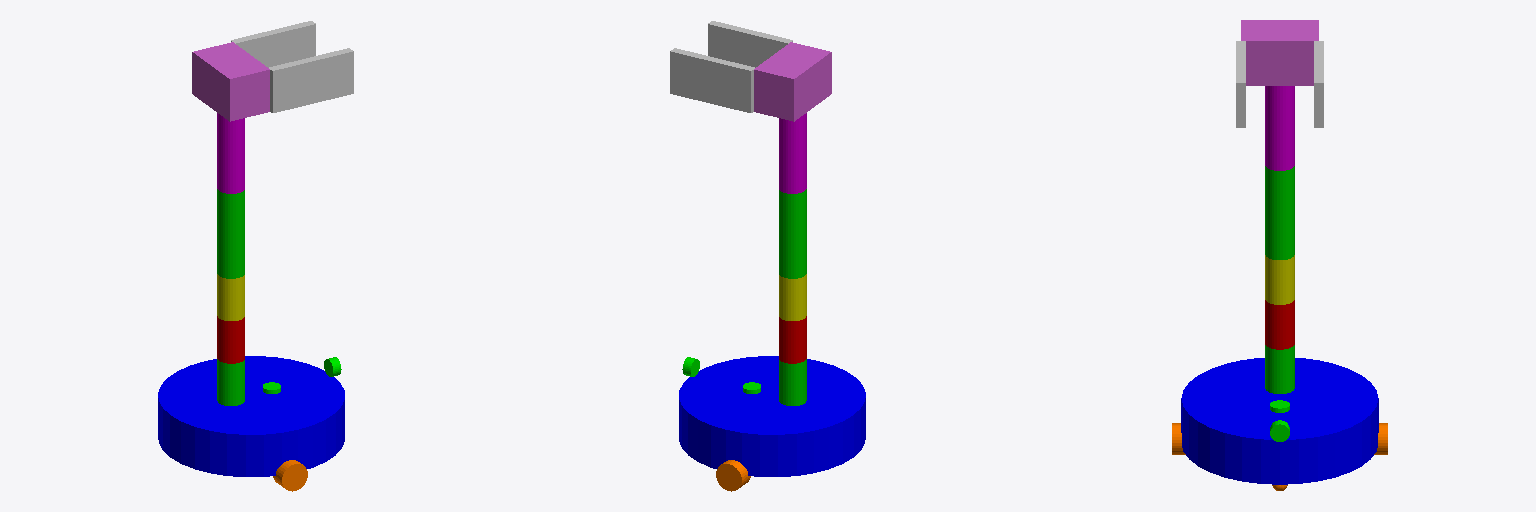
--- What the picture shows (computed from the rendered views, not written in the file) ---
The picture shows the robot from 3 angles, left to right: view 1: azimuth 30°, elevation 25°; view 2: azimuth 150°, elevation 25°; view 3: azimuth 270°, elevation 25°; orthographic projection.
Model six_arm with 16 links and 15 joints (10 continuous, 5 fixed), rooted at base_footprint, posed every joint at zero.
Links seen in each view (by area): view 1: base_link, link6, link8, link7, link4, link5, link2, link1, link3, right_wheel_link; view 2: base_link, link6, link7, link8, link4, link5, link2, link1, link3, left_wheel_link; view 3: base_link, link6, link4, link5, link2, link3, link1, link7, link8.
Link boxes in pixels (<box>): base_link: <box>158,356,344,476</box>; link6: <box>192,42,269,121</box>; link8: <box>269,48,353,112</box>; link7: <box>231,21,315,67</box>; link4: <box>217,189,244,278</box>; link5: <box>217,113,244,193</box>; link2: <box>217,316,244,363</box>; link1: <box>217,359,244,405</box>; link3: <box>217,274,244,320</box>; right_wheel_link: <box>273,460,307,491</box>; base_link: <box>679,356,865,476</box>; link6: <box>754,42,831,121</box>; link7: <box>670,48,754,112</box>; link8: <box>708,21,792,67</box>; link4: <box>779,189,806,278</box>; link5: <box>779,113,806,193</box>; link2: <box>779,316,806,363</box>; link1: <box>779,359,806,405</box>; link3: <box>779,274,806,320</box>; left_wheel_link: <box>716,460,750,491</box>; base_link: <box>1181,358,1378,484</box>; link6: <box>1241,20,1318,85</box>; link4: <box>1265,166,1294,259</box>; link5: <box>1265,86,1294,170</box>; link2: <box>1265,300,1294,349</box>; link3: <box>1265,255,1294,304</box>; link1: <box>1265,345,1294,393</box>; link7: <box>1314,41,1323,127</box>; link8: <box>1236,41,1245,127</box>.
Bounding box of the posed robot: 0.41 × 0.44 × 0.932 m (x, y, z).
Geometry: primitives only (box / cylinder / sphere), no mesh files.

The robot description file, URDF, robot "six_arm":
<?xml version="1.0"?>
<robot name="six_arm">

    <link name="base_footprint"/>
    <!-- Base link -->
    <link name="base_link">
        <visual>
            <geometry>
                <cylinder length="0.1" radius="0.2"/>
            </geometry>
            <origin rpy="0 0 0" xyz="0 0 0.05"/>
            <material name="blue">
                <color rgba="0 0 1.0 0.75"/>
            </material>
        </visual>
        <collision>
            <geometry>
                <cylinder length="0.1" radius="0.2"/>
            </geometry>
            <origin rpy="0 0 0" xyz="0 0 0.05"/>
        </collision>
        <inertial>
            <mass value="0.2"/>
            <inertia ixx="0.0122666" ixy="0" ixz="0" iyy="0.0122666" iyz="0" izz="0.02"/>
        </inertial>
    </link>

    <joint name="base_joint" type="fixed">
        <parent link="base_footprint"/>
        <child link="base_link"/>
        <origin xyz="0.0 0.0 0.0" rpy="0 0 0"/>
    </joint>

    <!-- IMU -->
    <link name="imu_link">
        <visual>
            <origin xyz="0 0 0.0" rpy="0 0 0"/>
            <geometry>
                <box size="0.02 0.02 0.02"/>
            </geometry>
        </visual>
        <collision>
            <origin xyz="0 0 0.0" rpy="0 0 0"/>
            <geometry>
                <box size="0.02 0.02 0.02"/>
            </geometry>
        </collision>
        <inertial>
            <mass value="0.1"/>
            <inertia ixx="0.000190416666667" ixy="0" ixz="0" iyy="0.0001904" iyz="0" izz="0.00036"/>
        </inertial>
    </link>
    <joint name="imu_joint" type="fixed">
        <parent link="base_link" />
        <child link="imu_link" />
        <origin xyz="0 0 0.02" />
    </joint>

    <!-- 雷达 -->
    <link name="laser_link">
        <visual>
            <origin xyz="0 0 0" rpy="0 0 0"/>
            <geometry>
                <cylinder length="0.02" radius="0.02"/>
            </geometry>
            <material name="black">
                <color rgba="0.0 0.9 0.0 0.5" />
            </material>
        </visual>
        <collision>
            <origin xyz="0 0 0" rpy="0 0 0"/>
            <geometry>
                <cylinder length="0.02" radius="0.02"/>
            </geometry>
        </collision>
        <inertial>
            <mass value="0.1"/>
            <inertia ixx="0.000190416666667" ixy="0" ixz="0" iyy="0.0001904" iyz="0" izz="0.00036"/>
        </inertial>
    </link>
    <joint name="laser_joint" type="fixed">
        <parent link="base_link" />
        <child link="laser_link" />
        <origin xyz="0.05 0 0.1" />
    </joint>

    <!-- 相机 -->
    <link name="camera_link">
        <visual>
            <origin xyz="0 0 0" rpy="0 1.57079 0"/>
            <geometry>
                <cylinder length="0.02" radius="0.02"/>
            </geometry>
            <material name="black">
                <color rgba="0.0 0.9 0.0 0.5" />
            </material>
        </visual>
        <collision>
            <origin xyz="0 0 0" rpy="0 1.57079 0"/>
            <geometry>
                <cylinder length="0.02" radius="0.02"/>
            </geometry>
        </collision>
        <inertial>
            <mass value="0.1"/>
            <inertia ixx="0.000190416666667" ixy="0" ixz="0" iyy="0.0001904" iyz="0" izz="0.00036"/>
        </inertial>
    </link>
    <joint name="camera_joint" type="fixed">
        <parent link="base_link" />
        <child link="camera_link" />
        <origin xyz="0.2 0 0.12" />
    </joint>

    <!-- 左轮 -->
    <link name="left_wheel_link">
        <visual>
            <origin xyz="0 0 0" rpy="1.57079 0 0"/>
            <geometry>
                <cylinder length="0.04" radius="0.032"/>
            </geometry>
            <material name="orange">
                <color rgba="1.0 0.5 0.0 0.5" />
            </material>
        </visual>
        <collision>
            <origin xyz="0 0 0" rpy="1.57079 0 0"/>
            <geometry>
                <cylinder length="0.04" radius="0.032"/>
            </geometry>
        </collision>
        <inertial>
            <mass value="0.2"/>
            <inertia ixx="0.000190416666667" ixy="0" ixz="0" iyy="0.0001904" iyz="0" izz="0.00036"/>
        </inertial>
    </link>
    <joint name="left_wheel_joint" type="continuous">
        <parent link="base_link" />
        <child link="left_wheel_link" />
        <origin xyz="-0.02 0.20 0.0" />
        <axis xyz="0 1 0" />
    </joint>

    <!-- 右轮 -->
    <link name="right_wheel_link">
        <visual>
            <origin xyz="0 0 0" rpy="1.57079 0 0"/>
            <geometry>
                <cylinder length="0.04" radius="0.032"/>
            </geometry>
            <material name="orange">
                <color rgba="1.0 0.5 0.0 0.5" />
            </material>
        </visual>
        <collision>
            <origin xyz="0 0 0" rpy="1.57079 0 0"/>
            <geometry>
                <cylinder length="0.04" radius="0.032"/>
            </geometry>
        </collision>
        <inertial>
            <mass value="0.2"/>
            <inertia ixx="0.000190416666667" ixy="0" ixz="0" iyy="0.0001904" iyz="0" izz="0.00036"/>
        </inertial>
    </link>
    <joint name="right_wheel_joint" type="continuous">
        <parent link="base_link" />
        <child link="right_wheel_link" />
        <origin xyz="-0.02 -0.20 0.0" />
        <axis xyz="0 1 0" />
    </joint>

    <!-- 支撑轮 -->
    <link name="caster_link">
        <visual>
            <origin xyz="0 0 0" rpy="1.57079 0 0"/>
            <geometry>
                <sphere radius="0.016"/>
            </geometry>
            <material name="orange">
                <color rgba="1.0 0.5 0.0 0.5" />
            </material>
        </visual>
        <collision>
            <origin xyz="0 0 0" rpy="1.57079 0 0"/>
            <geometry>
                <sphere radius="0.016"/>
            </geometry>
        </collision>
        <inertial>
            <mass value="0.5"/>
            <inertia ixx="0.000190416666667" ixy="0" ixz="0" iyy="0.0001904" iyz="0" izz="0.00036"/>
        </inertial>
    </link>
    <joint name="caster_joint" type="fixed">
        <parent link="base_link" />
        <child link="caster_link" />
        <origin xyz="0.16 0.0 -0.016" />
        <axis xyz="0 1 0" />
    </joint>

    <!-- Link 1 -->
    <link name="link1">
        <visual>
            <geometry>
                <cylinder length="0.1" radius="0.03"/>
            </geometry>
            <origin rpy="0 0 0" xyz="0 0 0.05"/>
            <material name="green">
                <color rgba="0 0.8 0 1"/>
            </material>
        </visual>
        <collision>
            <geometry>
                <cylinder length="0.1" radius="0.03"/>
            </geometry>
            <origin rpy="0 0 0" xyz="0 0 0.05"/>
        </collision>
        <inertial>
            <mass value="0.2"/>
            <inertia ixx="0.000190416666667" ixy="0" ixz="0" iyy="0.0001904" iyz="0" izz="0.00036"/>
        </inertial>
    </link>

    <!-- Joint 1: rotation around X-axis -->
    <joint name="joint1" type="continuous">
        <parent link="base_link"/>
        <child link="link1"/>
        <axis xyz="0 0 1"/>
        <origin xyz="-0.05 0 0.1" rpy="0 0 0"/>
    </joint>

    <!-- Link 2 -->
    <link name="link2">
        <visual>
            <geometry>
                <cylinder length="0.1" radius="0.03"/>
            </geometry>
            <origin rpy="0 0 0" xyz="0 0 0.05"/>
            <material name="red">
                <color rgba="0.8 0 0 1"/>
            </material>
        </visual>
        <collision>
            <geometry>
                <cylinder length="0.1" radius="0.03"/>
            </geometry>
            <origin rpy="0 0 0" xyz="0 0 0.05"/>
        </collision>
        <inertial>
            <mass value="0.2"/>
            <inertia ixx="0.000190416666667" ixy="0" ixz="0" iyy="0.0001904" iyz="0" izz="0.00036"/>
        </inertial>
    </link>

    <!-- Joint 2: rotation around Y-axis -->
    <joint name="joint2" type="continuous">
        <parent link="link1"/>
        <child link="link2"/>
        <axis xyz="0 1 0"/>
        <origin xyz="0 0 0.1"/>
    </joint>

    <!-- Link 3 -->
    <link name="link3">
        <visual>
            <geometry>
                <cylinder length="0.1" radius="0.03"/>
            </geometry>
            <origin rpy="0 0 0" xyz="0 0 0.05"/>
            <material name="yellow">
                <color rgba="0.8 0.8 0 1"/>
            </material>
        </visual>
        <collision>
            <geometry>
                <cylinder length="0.1" radius="0.03"/>
            </geometry>
            <origin rpy="0 0 0" xyz="0 0 0.05"/>
        </collision>
        <inertial>
            <mass value="0.2"/>
            <inertia ixx="0.000190416666667" ixy="0" ixz="0" iyy="0.0001904" iyz="0" izz="0.00036"/>
        </inertial>
    </link>

    <!-- Joint 3: rotation around x-axis -->
    <joint name="joint3" type="continuous">
        <parent link="link2"/>
        <child link="link3"/>
        <axis xyz="0 1 0"/>
        <origin xyz="0 0 0.1"/>
    </joint>

    <!-- Link 4 -->
    <link name="link4">
        <visual>
            <geometry>
                <cylinder length="0.2" radius="0.03"/>
            </geometry>
            <origin rpy="0 0 0" xyz="0 0 0.05"/>
            <material name="green">
                <color rgba="0 0.8 0 1"/>
            </material>
        </visual>
        <collision>
            <geometry>
                <cylinder length="0.2" radius="0.03"/>
            </geometry>
            <origin rpy="0 0 0" xyz="0 0 0.05"/>
        </collision>
        <inertial>
            <mass value="0.2"/>
            <inertia ixx="0.000190416666667" ixy="0" ixz="0" iyy="0.0001904" iyz="0" izz="0.00036"/>
        </inertial>
    </link>

    <!-- Joint 4: rotation around X-axis -->
    <joint name="joint4" type="continuous">
        <parent link="link3"/>
        <child link="link4"/>
        <axis xyz="1 0 0"/>
        <origin xyz="0 0 0.15"/>
    </joint>

    <!-- Link 5 -->
    <link name="link5">
        <visual>
            <geometry>
                <cylinder length="0.2" radius="0.03"/>
            </geometry>
            <origin rpy="0 0 0" xyz="0 0 0.1"/>
            <material name="purple">
                <color rgba="0.8 0 0.8 1"/>
            </material>
        </visual>
        <collision>
            <geometry>
                <cylinder length="0.2" radius="0.03"/>
            </geometry>
            <origin rpy="0 0 0" xyz="0 0 0.1"/>
        </collision>
        <inertial>
            <mass value="0.2"/>
            <inertia ixx="0.000190416666667" ixy="0" ixz="0" iyy="0.0001904" iyz="0" izz="0.00036"/>
        </inertial>
    </link>

    <!-- Joint 5: rotation around Y-axis -->
    <joint name="joint5" type="continuous">
        <parent link="link4"/>
        <child link="link5"/>
        <axis xyz="0 1 0"/>
        <origin xyz="0 0 0.15"/>
    </joint>

    <!-- Link 6 -->
    <link name="link6">
        <visual>
            <geometry>
                <box size="0.1 0.16 0.1"/>
            </geometry>
            <origin rpy="0 0 0" xyz="0 0 0"/>
            <material name="pink">
                <color rgba="0.8 0.4 0.8 1"/>
            </material>
        </visual>
        <collision>
            <geometry>
                <box size="0.1 0.2 0.1"/>
            </geometry>
            <origin rpy="0 0 0" xyz="0 0 0"/>
        </collision>
        <inertial>
            <mass value="0.2"/>
            <inertia ixx="0.000190416666667" ixy="0" ixz="0" iyy="0.0001904" iyz="0" izz="0.00036"/>
        </inertial>
    </link>

    <!-- Joint 6: rotation around Z-axis -->
    <joint name="joint6" type="continuous">
        <parent link="link5"/>
        <child link="link6"/>
        <axis xyz="0 0 1"/>
        <origin xyz="0 0 0.25"/>
    </joint>

    <!-- Link 7 爪子 -->
    <link name="link7">
        <visual>
            <geometry>
                <box size="0.2 0.02 0.1"/>
            </geometry>
            <origin rpy="0 0 0" xyz="0.1 0 0"/>
            <material name="pink">
                <color rgba="0.8 0.8 0.8 1"/>
            </material>
        </visual>
        <collision>
            <geometry>
                <box size="0.2 0.02 0.1"/>
            </geometry>
            <origin rpy="0 0 0" xyz="0.1 0 0"/>
            <surface>
                <friction>
                    <mu>1.0</mu>                    <!-- 摩擦系数 -->
                    <mu2>1.0</mu2>
                    <slip1>0.0</slip1>
                    <slip2>0.0</slip2>
                </friction>
            </surface>
        </collision>
        <inertial>
            <mass value="0.2"/>
            <inertia ixx="0.000190416666667" ixy="0" ixz="0" iyy="0.0001904" iyz="0" izz="0.00036"/>
        </inertial>
    </link>
    <joint name="joint7" type="continuous">
        <parent link="link6"/>
        <child link="link7"/>
        <axis xyz="0 0 1"/>
        <origin xyz="0.05 0.08 0.0" rpy="0 0 0"/>
    </joint>

    <!-- Link 8 爪子 -->
    <link name="link8">
        <visual>
            <geometry>
                <box size="0.2 0.02 0.1"/>
            </geometry>
            <origin rpy="0 0 0" xyz="0.1 0 0"/>
            <material name="pink">
                <color rgba="0.8 0.8 0.8 1"/>
            </material>
        </visual>
        <collision>
            <geometry>
                <box size="0.2 0.02 0.1"/>
            </geometry>
            <origin rpy="0 0 0" xyz="0.1 0 0"/>
            <surface>
                <friction>
                    <mu>1.0</mu>                    <!-- 摩擦系数 -->
                    <mu2>1.0</mu2>
                    <slip1>0.0</slip1>
                    <slip2>0.0</slip2>
                </friction>
            </surface>
        </collision>
        <inertial>
            <mass value="0.2"/>
            <inertia ixx="0.000190416666667" ixy="0" ixz="0" iyy="0.0001904" iyz="0" izz="0.00036"/>
        </inertial>
    </link>
    <joint name="joint8" type="continuous">
        <parent link="link6"/>
        <child link="link8"/>
        <axis xyz="0 0 1"/>
        <origin xyz="0.05 -0.08 0.0" rpy="0 0 0"/>
    </joint>
    <disable_collisions link1="link6" link2="link7" reason="Adjacent"/>
    <disable_collisions link1="link6" link2="link8" reason="Adjacent"/>

    <gazebo reference="caster_link">
        <mu1 value="0.0"/>
        <mu2 value="0.0"/>
        <kp value="1000000.0" />
        <kd value="10.0" />
        <!-- <fdir1 value="0 0 1"/> -->
    </gazebo>

    <!-- 差速插件 -->
    <gazebo>
        <plugin name='diff_drive' filename='libgazebo_ros_diff_drive.so'>
            <ros>
                <namespace>/</namespace>
                <remapping>cmd_vel:=cmd_vel</remapping>
                <remapping>odom:=odom</remapping>
            </ros>
            <update_rate>30</update_rate>
            <!-- wheels -->
            <left_joint>left_wheel_joint</left_joint>
            <right_joint>right_wheel_joint</right_joint>
            <!-- kinematics -->
            <wheel_separation>0.4</wheel_separation>
            <wheel_diameter>0.065</wheel_diameter>
            <!-- limits -->
            <max_wheel_torque>20</max_wheel_torque>
            <max_wheel_acceleration>5.0</max_wheel_acceleration>
            <!-- output -->
            <publish_odom>true</publish_odom>
            <publish_odom_tf>true</publish_odom_tf>
            <publish_wheel_tf>true</publish_wheel_tf>
            <odometry_frame>odom</odometry_frame>
            <robot_base_frame>base_footprint</robot_base_frame>
        </plugin>
        <plugin name="fishbot_joint_state" filename="libgazebo_ros_joint_state_publisher.so">
            <ros>
                <remapping>~/out:=joint_states</remapping>
            </ros>
            <update_rate>30</update_rate>
            <joint_name>right_wheel_joint</joint_name>
            <joint_name>left_wheel_joint</joint_name>
        </plugin>
    </gazebo>

    <!-- 夹爪插件 -->
    <gazebo>
        <plugin name="gazebo_grasp_fix" filename="libgazebo_grasp_fix.so">
            <arm>
                <arm_name>my_arm</arm_name>
                <palm_link> link6  </palm_link>
                <gripper_link> link7 </gripper_link>
                <gripper_link> link8 </gripper_link>
            </arm>
            <forces_angle_tolerance>100</forces_angle_tolerance>
            <update_rate>20</update_rate>
            <grip_count_threshold>1</grip_count_threshold>
            <max_grip_count>2</max_grip_count>
            <release_tolerance>0.0198</release_tolerance>
            <disable_collisions_on_attach>true</disable_collisions_on_attach>
            <contact_topic>__default_topic__</contact_topic>
        </plugin>

    </gazebo>
    <!-- IMU插件 -->
    <gazebo reference="imu_link">
        <sensor name="imu_sensor" type="imu">
            <plugin filename="libgazebo_ros_imu_sensor.so" name="imu_plugin">
                <ros>
                    <namespace>/</namespace>
                    <remapping>~/out:=imu</remapping>
                </ros>
                <initial_orientation_as_reference>false</initial_orientation_as_reference>
            </plugin>
            <always_on>true</always_on>
            <update_rate>100</update_rate>
            <visualize>true</visualize>
            <imu>
                <angular_velocity>
                    <x>
                        <noise type="gaussian">
                            <mean>0.0</mean>
                            <stddev>2e-4</stddev>
                            <bias_mean>0.0000075</bias_mean>
                            <bias_stddev>0.0000008</bias_stddev>
                        </noise>
                    </x>
                    <y>
                        <noise type="gaussian">
                            <mean>0.0</mean>
                            <stddev>2e-4</stddev>
                            <bias_mean>0.0000075</bias_mean>
                            <bias_stddev>0.0000008</bias_stddev>
                        </noise>
                    </y>
                    <z>
                        <noise type="gaussian">
                            <mean>0.0</mean>
                            <stddev>2e-4</stddev>
                            <bias_mean>0.0000075</bias_mean>
                            <bias_stddev>0.0000008</bias_stddev>
                        </noise>
                    </z>
                </angular_velocity>
                <linear_acceleration>
                    <x>
                        <noise type="gaussian">
                            <mean>0.0</mean>
                            <stddev>1.7e-3</stddev>
                            <bias_mean>0.000001</bias_mean>
                            <bias_stddev>0.0000001</bias_stddev>
                        </noise>
                    </x>
                    <y>
                        <noise type="gaussian">
                            <mean>0.0</mean>
                            <stddev>1.7e-3</stddev>
                            <bias_mean>0.000001</bias_mean>
                            <bias_stddev>0.0000001</bias_stddev>
                        </noise>
                    </y>
                    <z>
                        <noise type="gaussian">
                            <mean>0.0</mean>
                            <stddev>1.7e-3</stddev>
                            <bias_mean>0.000001</bias_mean>
                            <bias_stddev>0.0000001</bias_stddev>
                        </noise>
                    </z>
                </linear_acceleration>
            </imu>
        </sensor>
    </gazebo>

    <!-- 雷达插件 -->
    <gazebo reference="laser_link">
        <sensor name="laser_sensor" type="ray">
            <always_on>true</always_on>
            <visualize>false</visualize>
            <update_rate>10</update_rate>
            <pose>0 0 0.075 0 0 0</pose>
            <ray>
                <scan>
                    <horizontal>
                        <samples>360</samples>
                        <resolution>1.000000</resolution>
                        <min_angle>0.000000</min_angle>
                        <max_angle>6.280000</max_angle>
                    </horizontal>
                </scan>
                <range>
                    <min>0.20000</min>
                    <max>6</max>
                    <resolution>0.015000</resolution>
                </range>
                <noise>
                    <type>gaussian</type>
                    <mean>0.0</mean>
                    <stddev>0.0001</stddev>
                </noise>
            </ray>
            <plugin name="laserscan" filename="libgazebo_ros_ray_sensor.so">
                <ros>
                    <remapping>~/out:=scan</remapping>
                </ros>
                <output_type>sensor_msgs/LaserScan</output_type>
                <frame_name>laser_link</frame_name>
            </plugin>
        </sensor>
    </gazebo>

    <!-- 深度相机插件 -->
    <gazebo reference="camera_link">
        <sensor type="camera" name="camera">
            <update_rate>30.0</update_rate>
            <camera name="head">
                <horizontal_fov>1.3962634</horizontal_fov>
                <image>
                    <width>1080</width>
                    <height>720</height>
                    <format>R8G8B8</format>
                </image>
                <clip>
                    <near>0.02</near>
                    <far>300</far>
                </clip>
                <noise>
                    <type>gaussian</type>
                    <mean>0.0</mean>
                    <stddev>0.007</stddev>
                </noise>
            </camera>
            <plugin name="camera_controller" filename="libgazebo_ros_camera.so">
                <alwaysOn>true</alwaysOn>
                <updateRate>0.0</updateRate>
                <cameraName>/camera</cameraName>
                <imageTopicName>image_raw</imageTopicName>
                <cameraInfoTopicName>camera_info</cameraInfoTopicName>
                <frameName>camera_link</frameName>
                <hackBaseline>0.07</hackBaseline>
            </plugin>
        </sensor>

        <!-- 添加深度相机 -->
        <sensor type="depth" name="depth_camera">
            <update_rate>30.0</update_rate>
            <camera name="depth">
                <horizontal_fov>1.3962634</horizontal_fov>
                <image>
                    <width>1080</width>
                    <height>720</height>
                    <format>L16</format>
                </image>
                <clip>
                    <near>0.02</near>
                    <far>300</far>
                </clip>
            </camera>
            <plugin name="depth_camera_controller" filename="libgazebo_ros_camera.so">
                <alwaysOn>true</alwaysOn>
                <updateRate>0.0</updateRate>
                <cameraName>/depth_camera</cameraName>
                <imageTopicName>depth_image_raw</imageTopicName>
                <cameraInfoTopicName>depth_camera_info</cameraInfoTopicName>                <!-- 确保使用这个参数 -->
                <frameName>camera_link</frameName>
            </plugin>
        </sensor>
        <material>Gazebo/Blue</material>
    </gazebo>


    <!-- 参考link -->
    <gazebo reference="base_link">
        <material>Gazebo/Black</material>
        <gravity>true</gravity>
        <selfCollide>false</selfCollide>
    </gazebo>
    <gazebo reference="caster_link">
        <material>Gazebo/Black</material>
        <selfCollide>false</selfCollide>
    </gazebo>
    <gazebo reference="laser_link">
        <material>Gazebo/Black</material>
        <selfCollide>false</selfCollide>
    </gazebo>
    <gazebo reference="link1">
        <material>Gazebo/Gray</material>
        <selfCollide>false</selfCollide>
    </gazebo>
    <gazebo reference="link2">
        <material>Gazebo/Red</material>
        <selfCollide>false</selfCollide>
    </gazebo>
    <gazebo reference="link3">
        <material>Gazebo/Blue</material>
        <selfCollide>false</selfCollide>
    </gazebo>
    <gazebo reference="link4">
        <material>Gazebo/Green</material>
        <selfCollide>false</selfCollide>
    </gazebo>
    <gazebo reference="link5">
        <material>Gazebo/Yellow</material>
        <selfCollide>false</selfCollide>
    </gazebo>
    <gazebo reference="link6">
        <material>Gazebo/Orange</material>
        <selfCollide>false</selfCollide>
    </gazebo>
    <gazebo reference="link7">
        <material>Gazebo/Orange</material>
        <selfCollide>false</selfCollide>
    </gazebo>
    <gazebo reference="link8">
        <material>Gazebo/Orange</material>
        <selfCollide>false</selfCollide>
    </gazebo>

    <!-- 在运行demo.launch.py时，需要注释这个ros2_control节点，因为它使用了xxx.ros2_control.xacro来生成了ros2_control节点-->
    <ros2_control name="GazeboSystem" type="system">
        <hardware>
            <plugin>gazebo_ros2_control/GazeboSystem</plugin>
        </hardware>
        <joint name="joint1">
            <command_interface name="position">
                <param name="min">-1</param>
                <param name="max">1</param>
            </command_interface>
            <state_interface name="position">
                <param name="initial_value">0.0</param>
            </state_interface>
            <state_interface name="velocity"/>
        </joint>
        <joint name="joint2">
            <command_interface name="position">
                <param name="min">-1</param>
                <param name="max">1</param>
            </command_interface>
            <state_interface name="position">
                <param name="initial_value">0.0</param>
            </state_interface>
            <state_interface name="velocity"/>
        </joint>
        <joint name="joint3">
            <command_interface name="position">
                <param name="min">-1</param>
                <param name="max">1</param>
            </command_interface>
            <state_interface name="position">
                <param name="initial_value">0.0</param>
            </state_interface>
            <state_interface name="velocity"/>
        </joint>
        <joint name="joint4">
            <command_interface name="position">
                <param name="min">-1</param>
                <param name="max">1</param>
            </command_interface>
            <state_interface name="position">
                <param name="initial_value">0.0</param>
            </state_interface>
            <state_interface name="velocity"/>
        </joint>
        <joint name="joint5">
            <command_interface name="position">
                <param name="min">-1</param>
                <param name="max">1</param>
            </command_interface>
            <state_interface name="position">
                <param name="initial_value">0.0</param>
            </state_interface>
            <state_interface name="velocity"/>
        </joint>
        <joint name="joint6">
            <command_interface name="position">
                <param name="min">-1</param>
                <param name="max">1</param>
            </command_interface>
            <state_interface name="position">
                <param name="initial_value">0.0</param>
            </state_interface>
            <state_interface name="velocity"/>
        </joint>
        <joint name="joint7">
            <command_interface name="position">
                <param name="min">-1</param>
                <param name="max">1</param>
            </command_interface>
            <state_interface name="position">
                <param name="initial_value">0.0</param>
            </state_interface>
            <state_interface name="velocity"/>
        </joint>
        <joint name="joint8">
            <command_interface name="position">
                <param name="min">-1</param>
                <param name="max">1</param>
            </command_interface>
            <state_interface name="position">
                <param name="initial_value">0.0</param>
            </state_interface>
            <state_interface name="velocity"/>
        </joint>
    </ros2_control>

    <gazebo>
        <plugin filename="libgazebo_ros2_control.so" name="gazebo_ros2_control">
            <parameters>[local-path]/leofile/robot_grasp/src/mybot_description/config/ros2_controllers.yaml</parameters>
            <robot_param_node>robot_state_publisher</robot_param_node>
        </plugin>
    </gazebo>

</robot>
